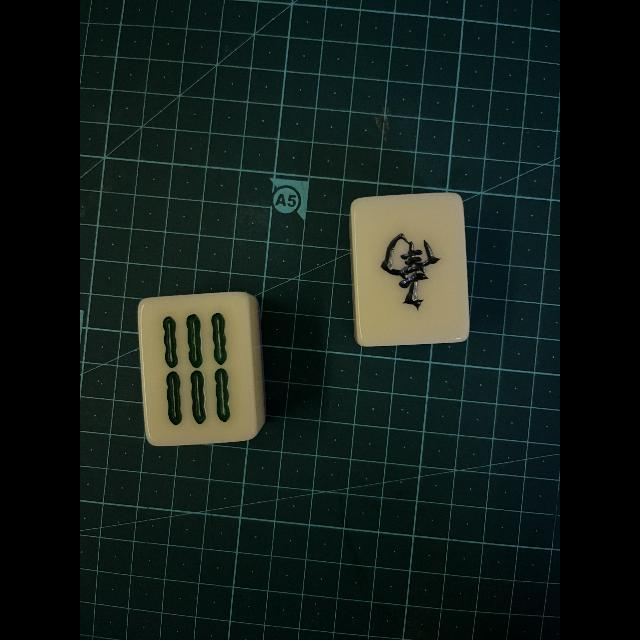b6: (142, 295, 254, 443)
ws: (356, 195, 464, 342)
